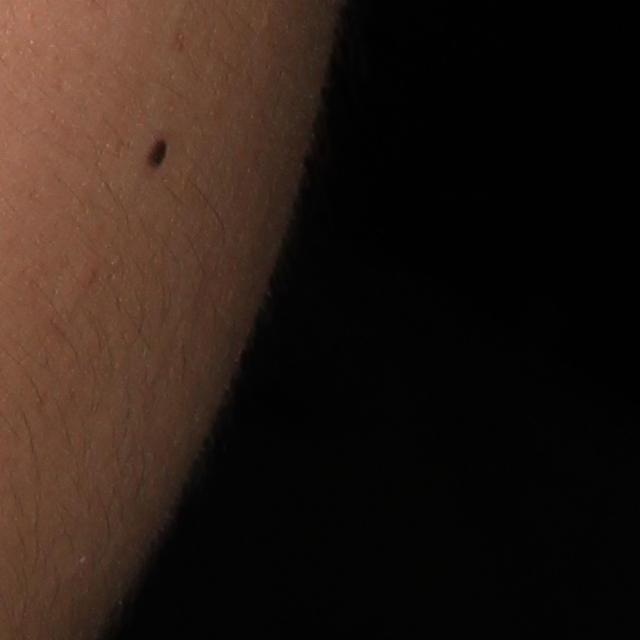nevus: (142, 136, 171, 165)
